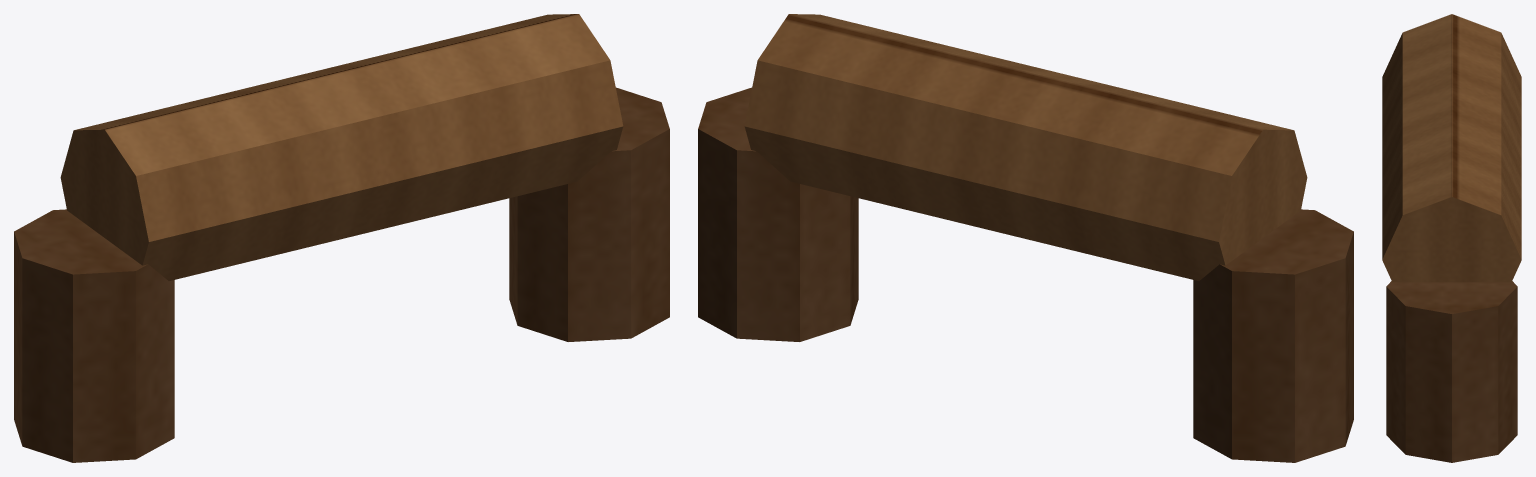
File: bench.glb
3 views of the same model, side by side, from view 1: azimuth 30°, elevation 25°; view 2: azimuth 150°, elevation 25°; view 3: azimuth 270°, elevation 25° (orthographic). The views are drawn at different scales.
Parts seen in each view (by area): view 1: bench; view 2: bench; view 3: bench.
Part boxes in pixels (bbox=[...]): bench: bbox=[14, 14, 669, 462]; bench: bbox=[698, 14, 1353, 462]; bench: bbox=[1382, 14, 1521, 462].
Bounding box in the file's own units: 1.42 × 0.63 × 0.34.
Materials: 2 (2 with a texture image).
